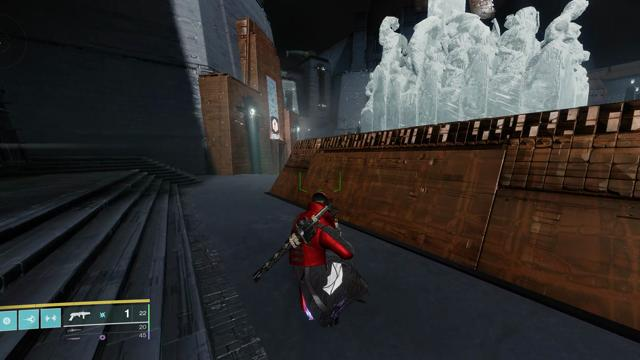worship: (272, 119, 278, 132)
